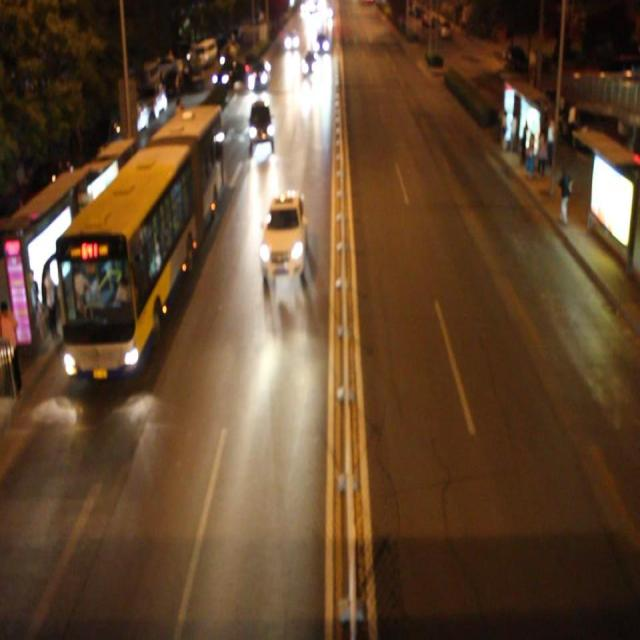car: (259, 192, 306, 274), (247, 58, 270, 90), (299, 50, 321, 79)
truck: (246, 100, 274, 148)
van: (54, 102, 219, 376)
